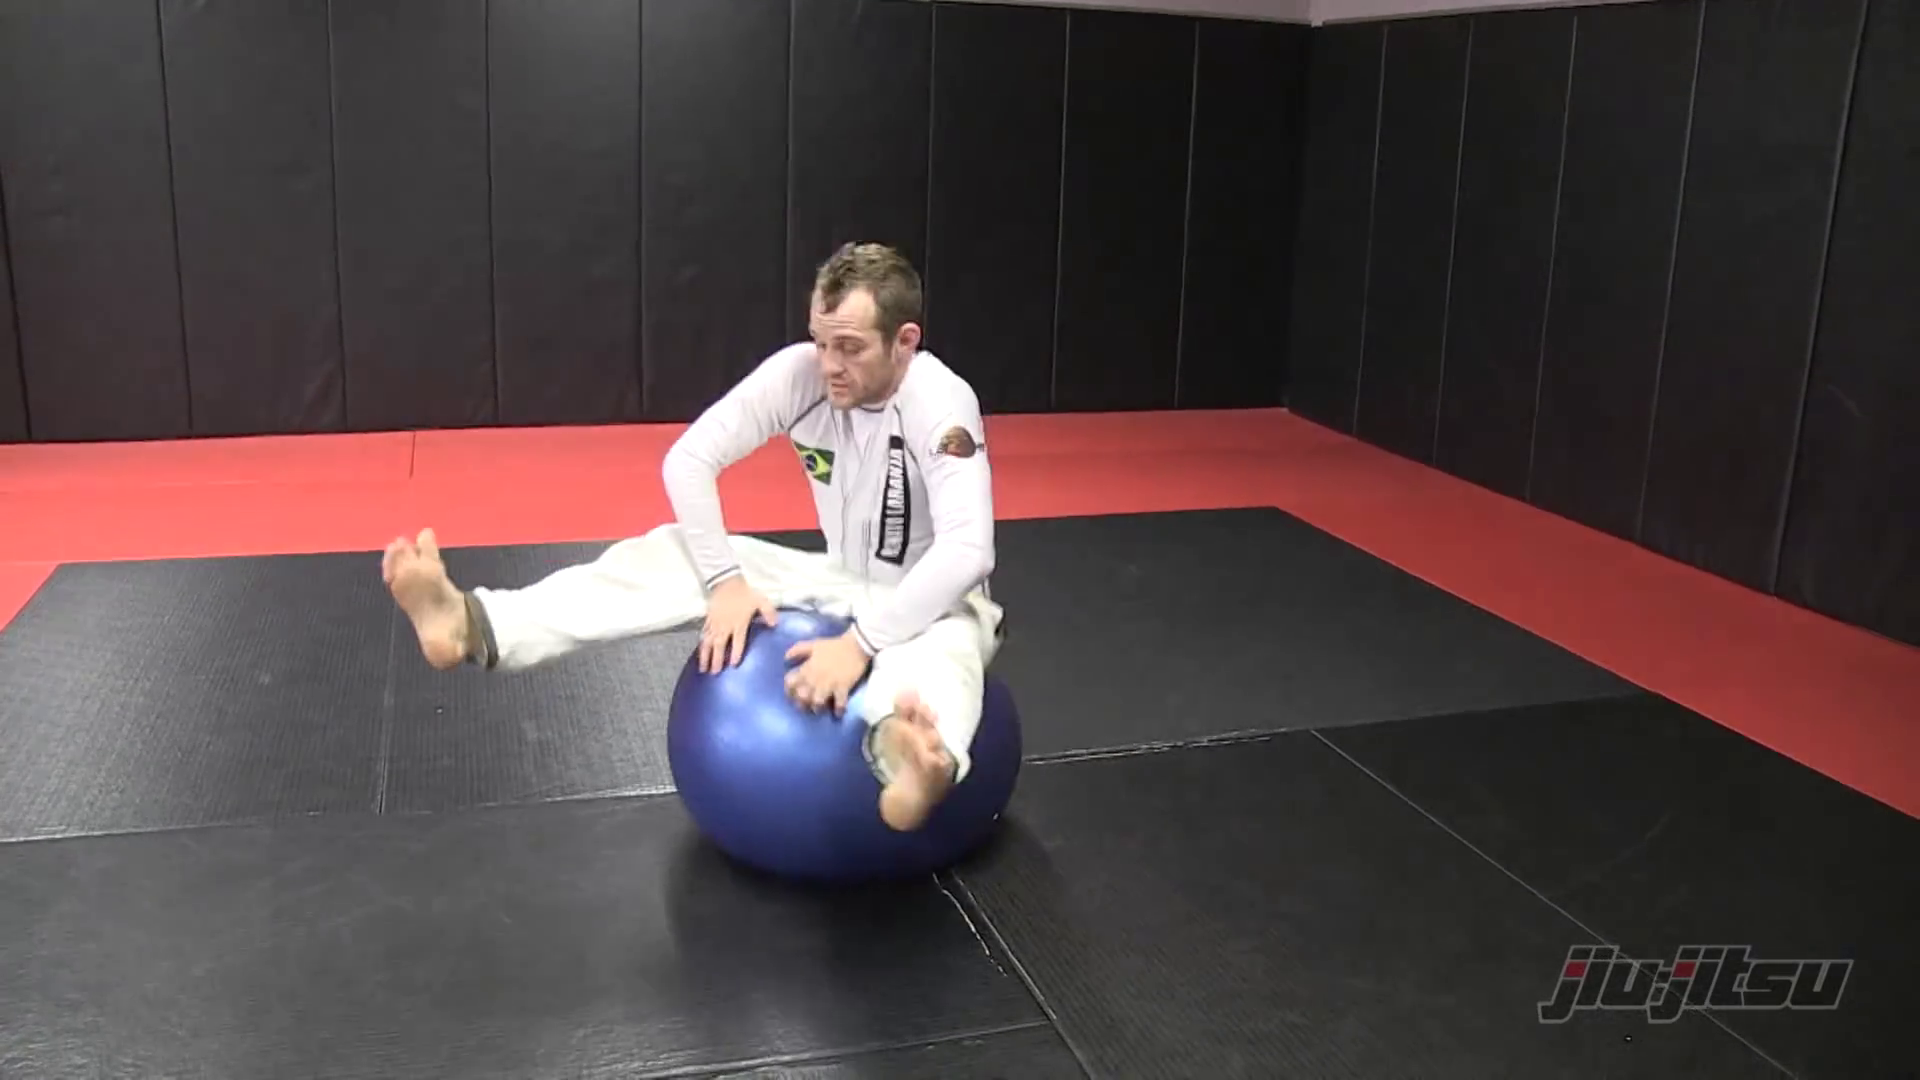yogaball: (654, 584, 1060, 903)
